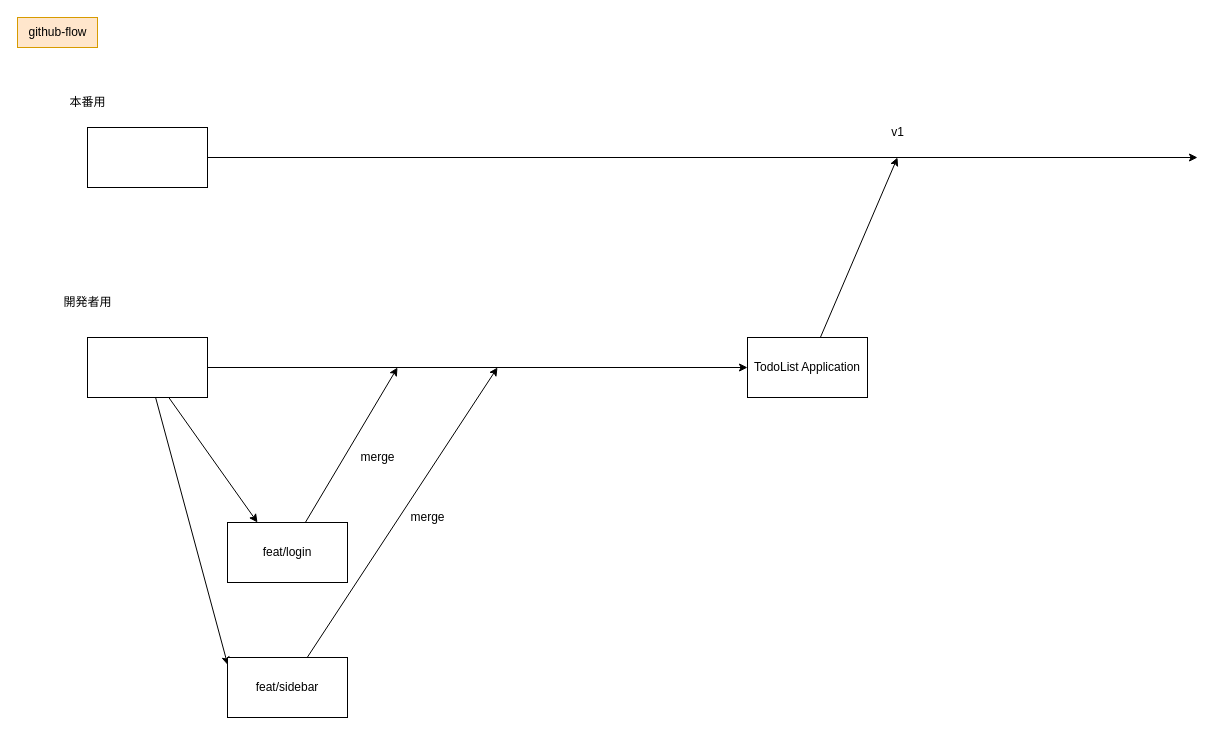
This 1223x735 diagram has some shape labels left out. The box of each missing label's shape, as (x1, y1, x2, y2) in pixels:
develop: (86, 336, 208, 398)
master: (86, 126, 208, 188)
